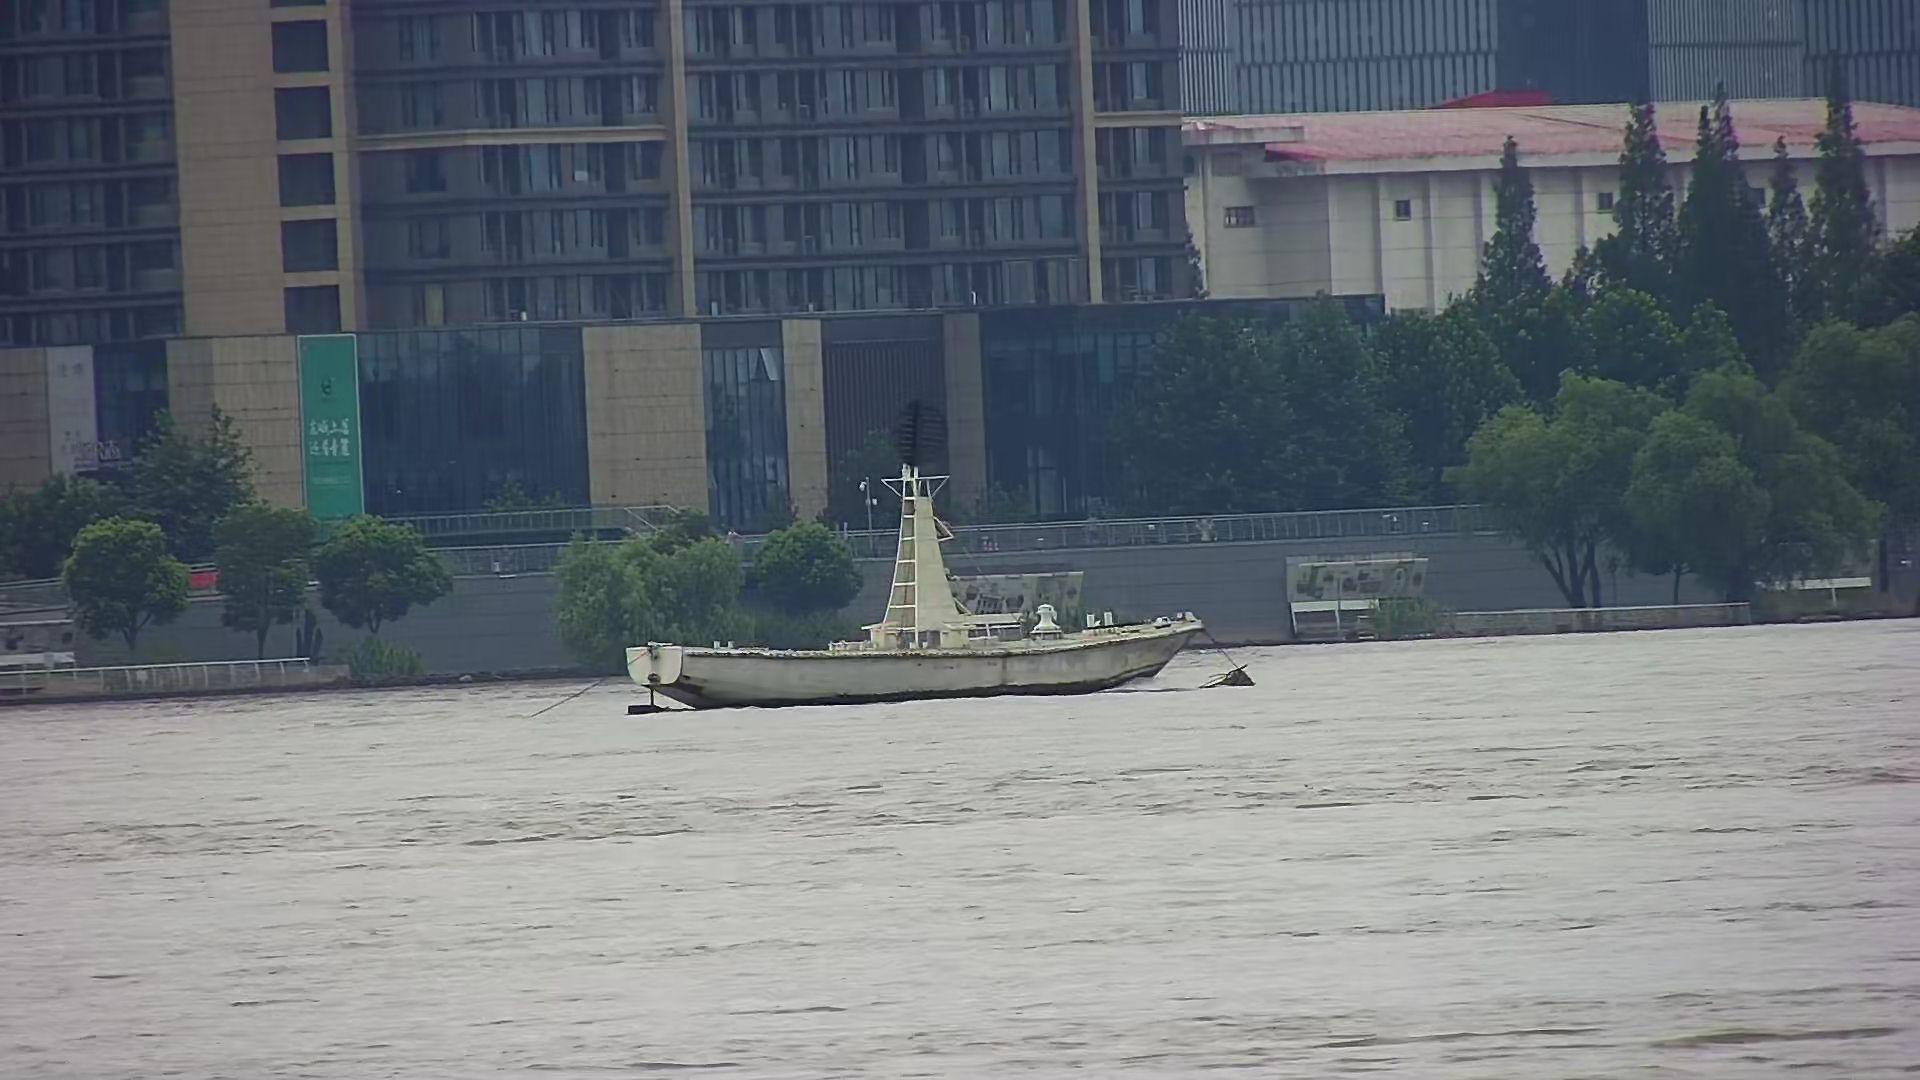boat: (613, 444, 1207, 709)
